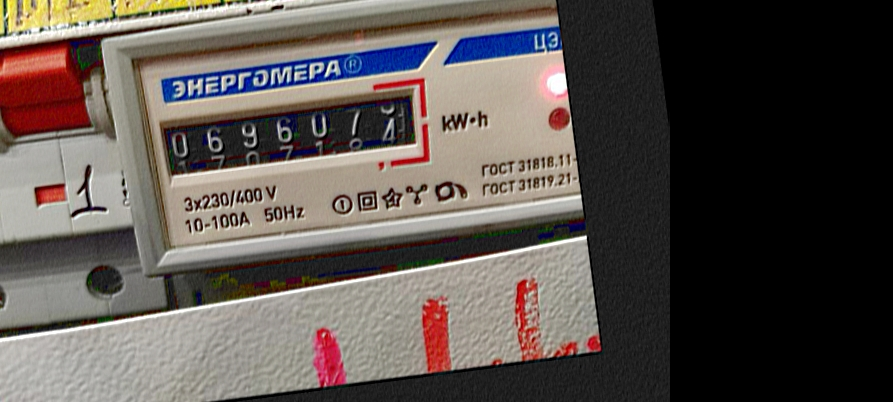0: (168, 127, 192, 160), (308, 108, 331, 139)
4: (377, 115, 399, 146)
6: (273, 113, 296, 146), (203, 123, 226, 154)
7: (343, 103, 365, 136)
9: (238, 118, 262, 150)
screen: (146, 70, 439, 198)
